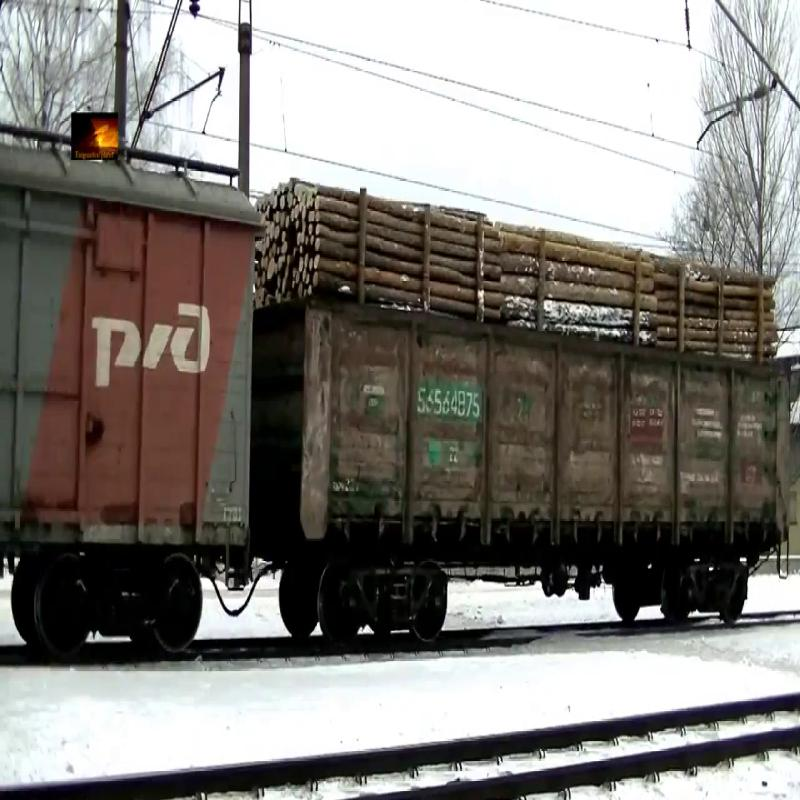train: (283, 179, 800, 634), (1, 162, 254, 620)
